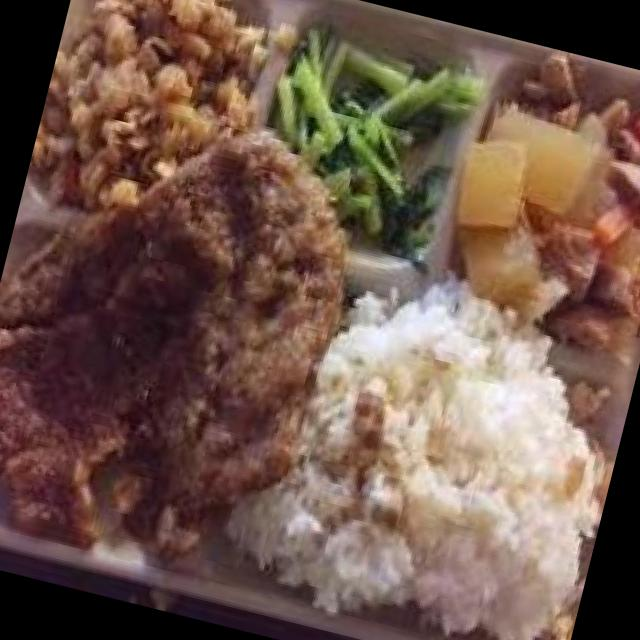rice: (274, 305, 580, 634)
